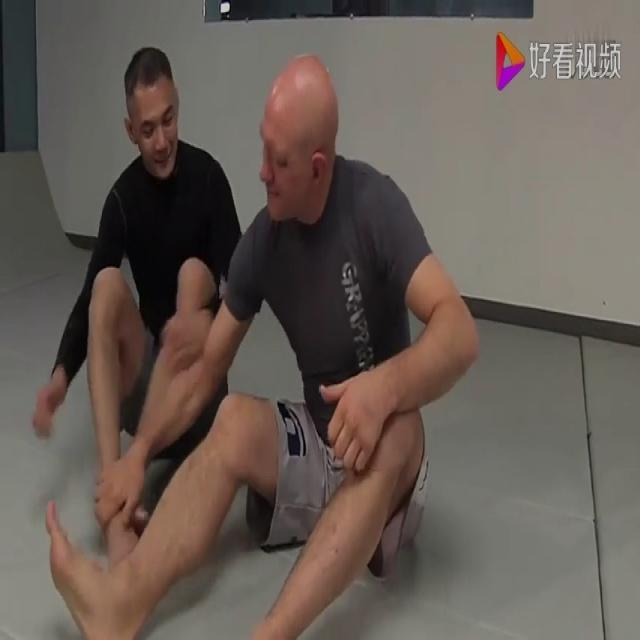non-fight: (43, 49, 480, 640), (31, 29, 245, 574)
